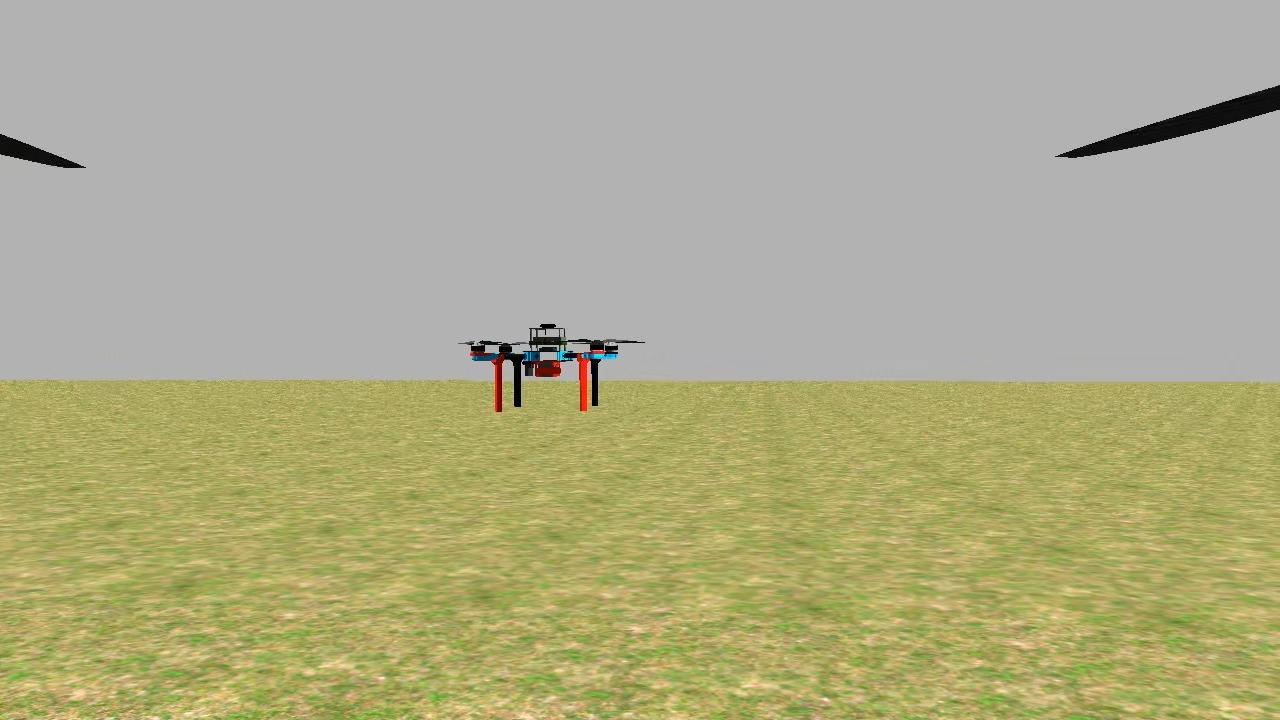UAV: (457, 301, 626, 430)
